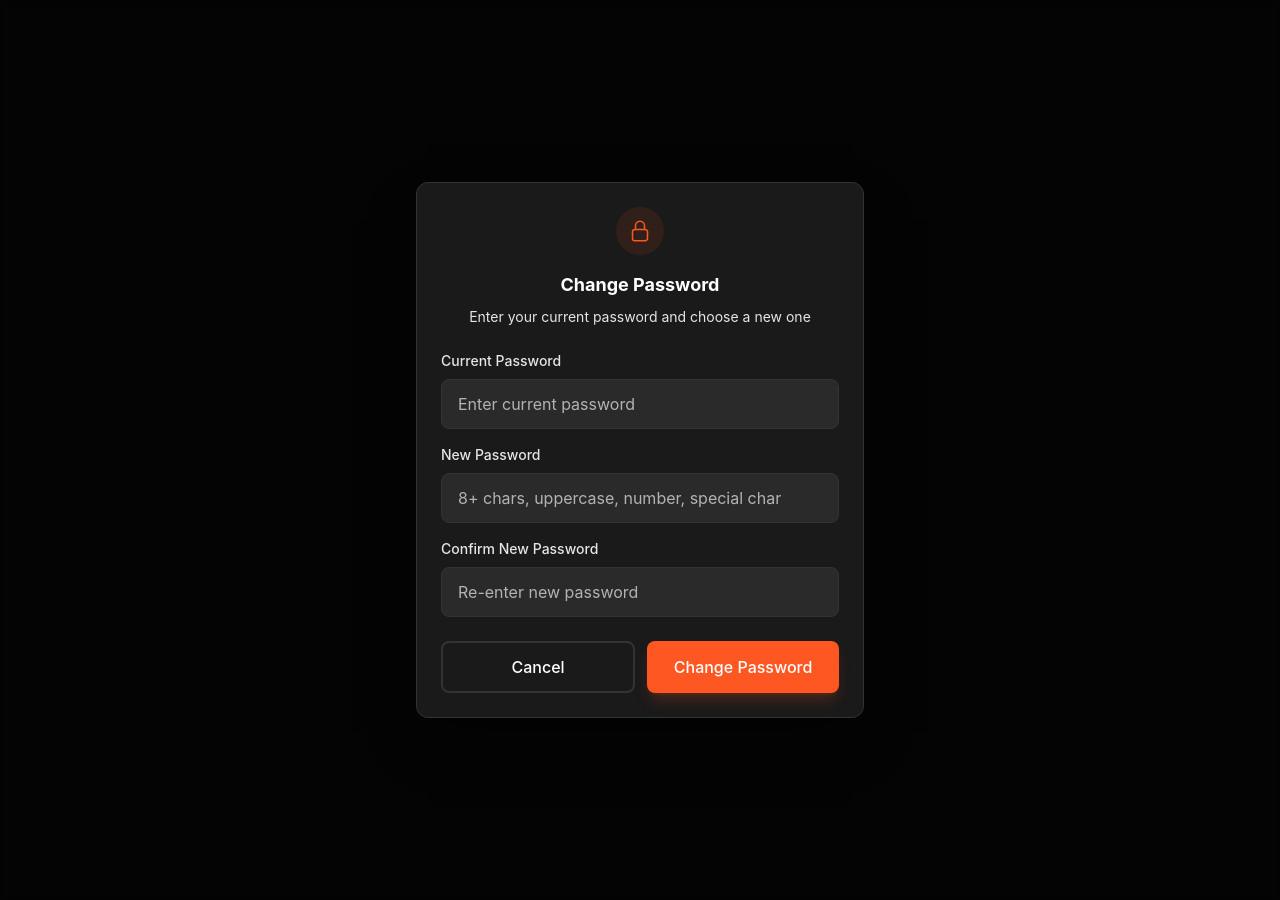
Test case: ChangePasswordModal › shows validation error for password without number
The image size is (1280, 900).
Type "Password123!" into the password field labelled "Current Password". click: (640, 404)
box: [441,379,839,429]
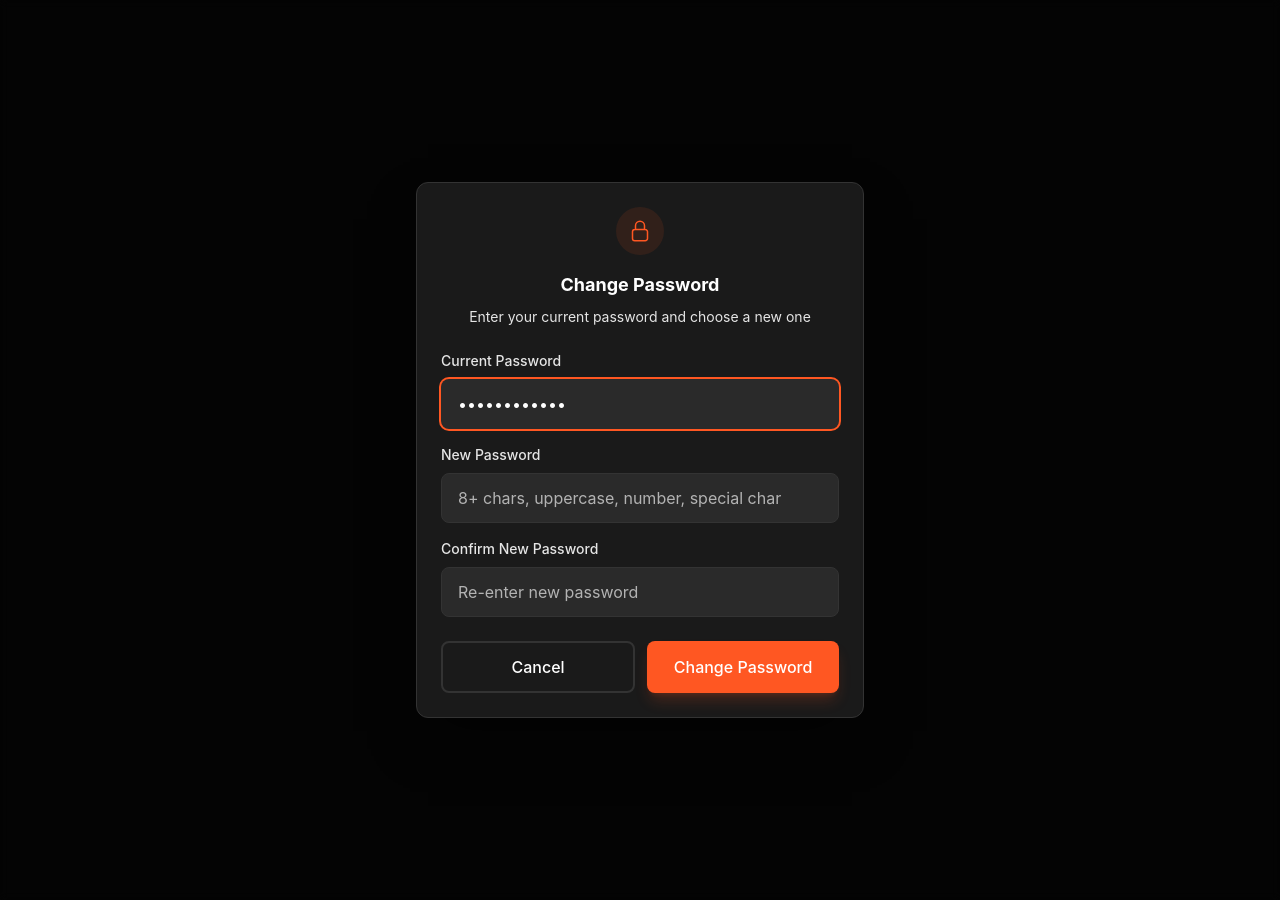
Type "NewPassword!" into the password field labelled "New Password". click: (640, 498)
box: [441,473,839,523]
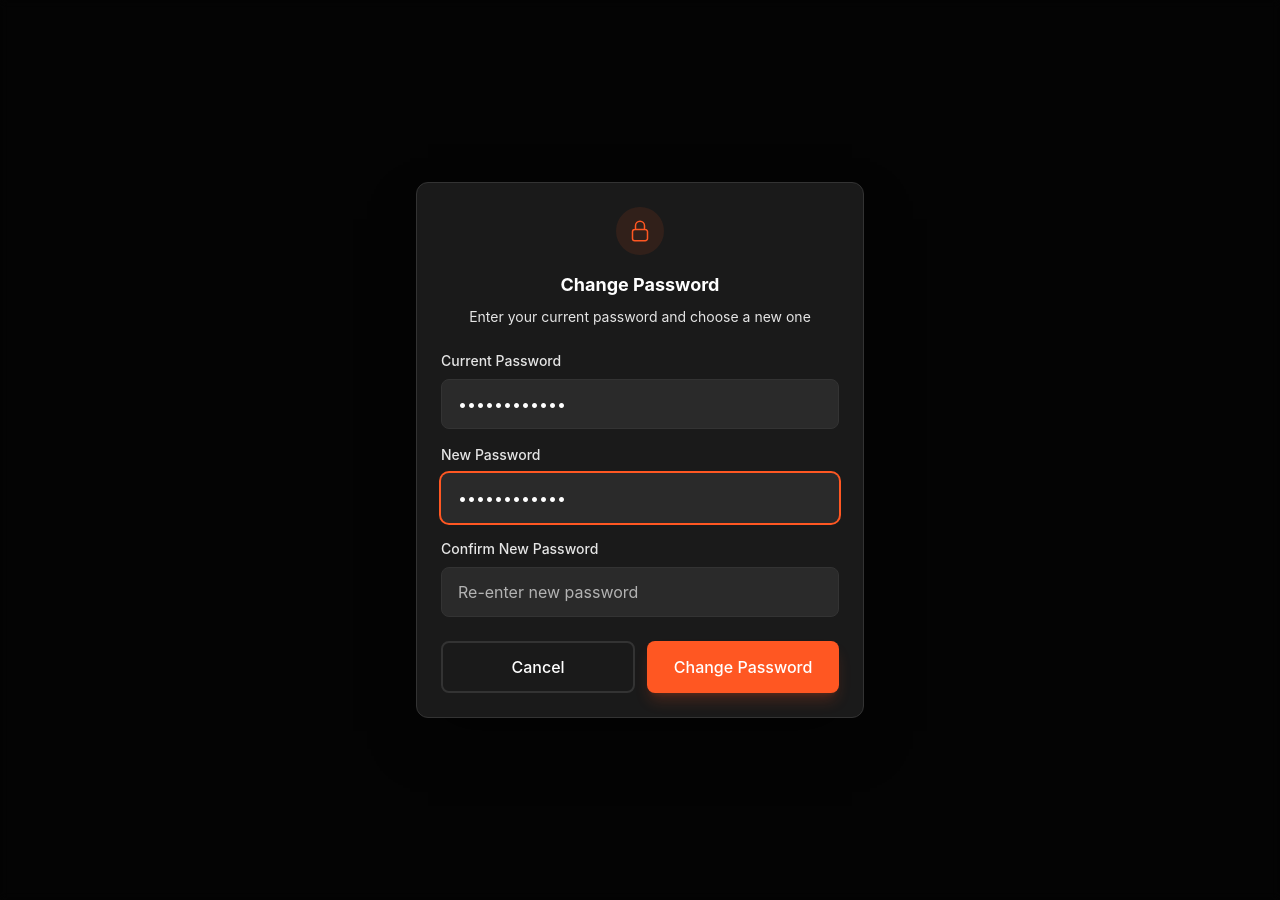
Type "NewPassword!" into the password field labelled "Confirm New Password". click: (640, 592)
box: [441,567,839,617]
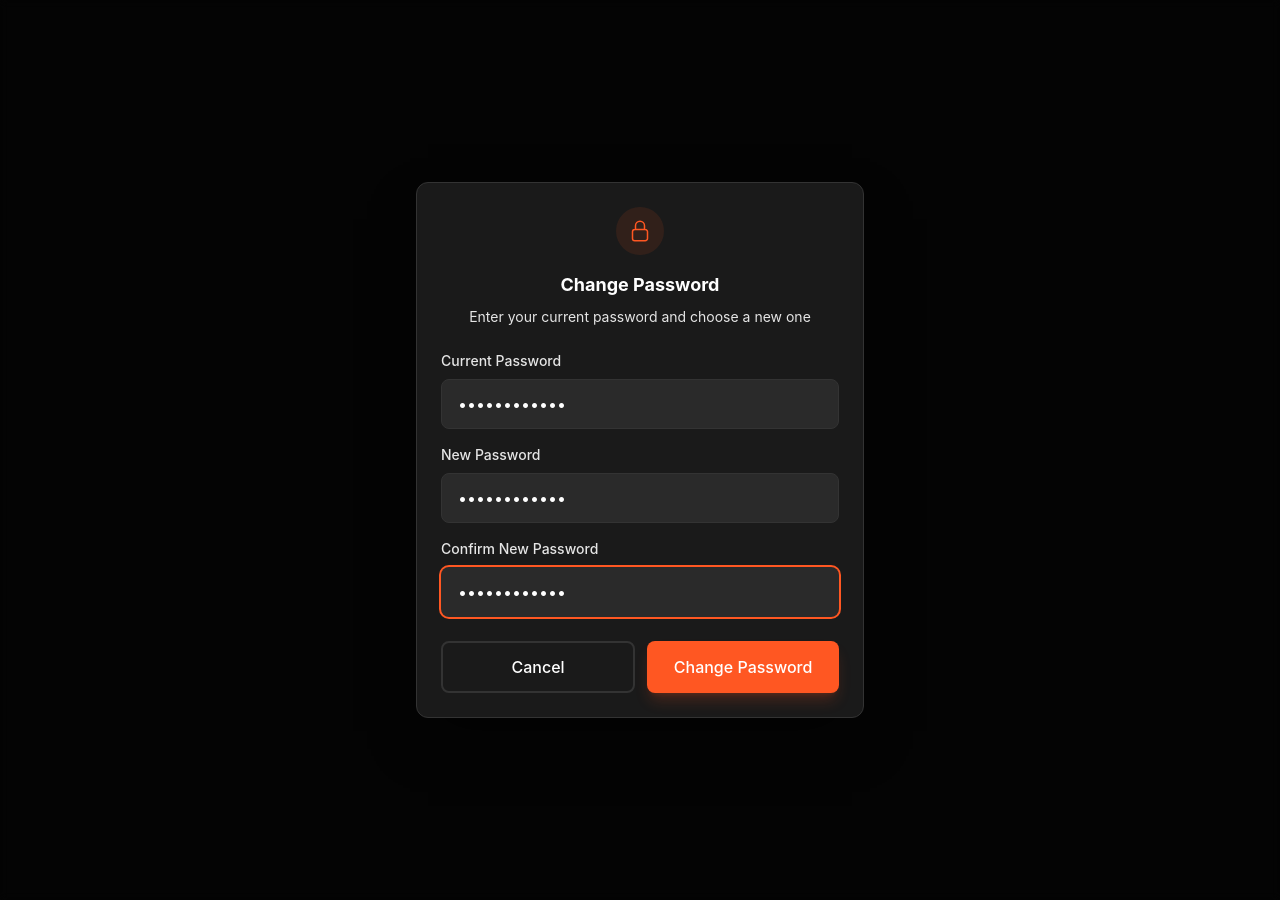
Click the button "Change Password". click: (743, 667)
box: [647,641,839,693]
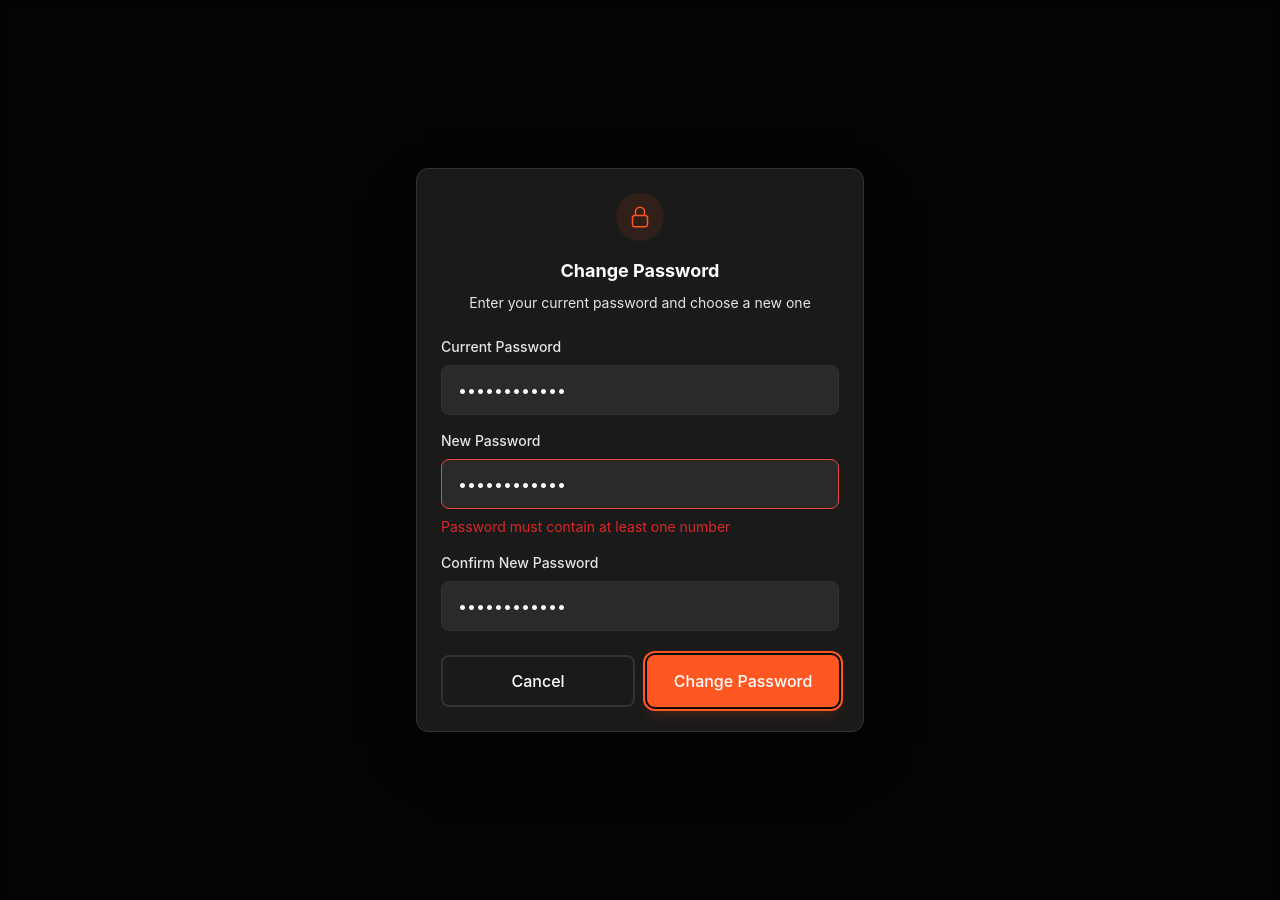
expect the text "Password must contain at least one number" is shown: met, box [441,518,730,535]
